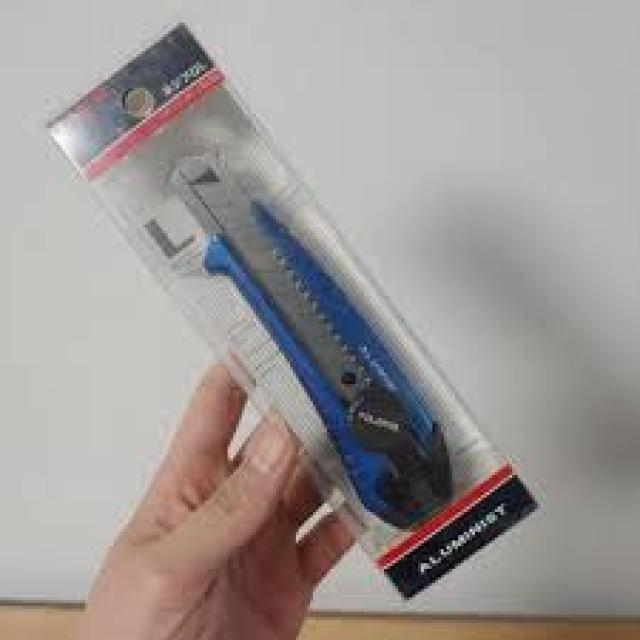cutter: (161, 148, 454, 541)
